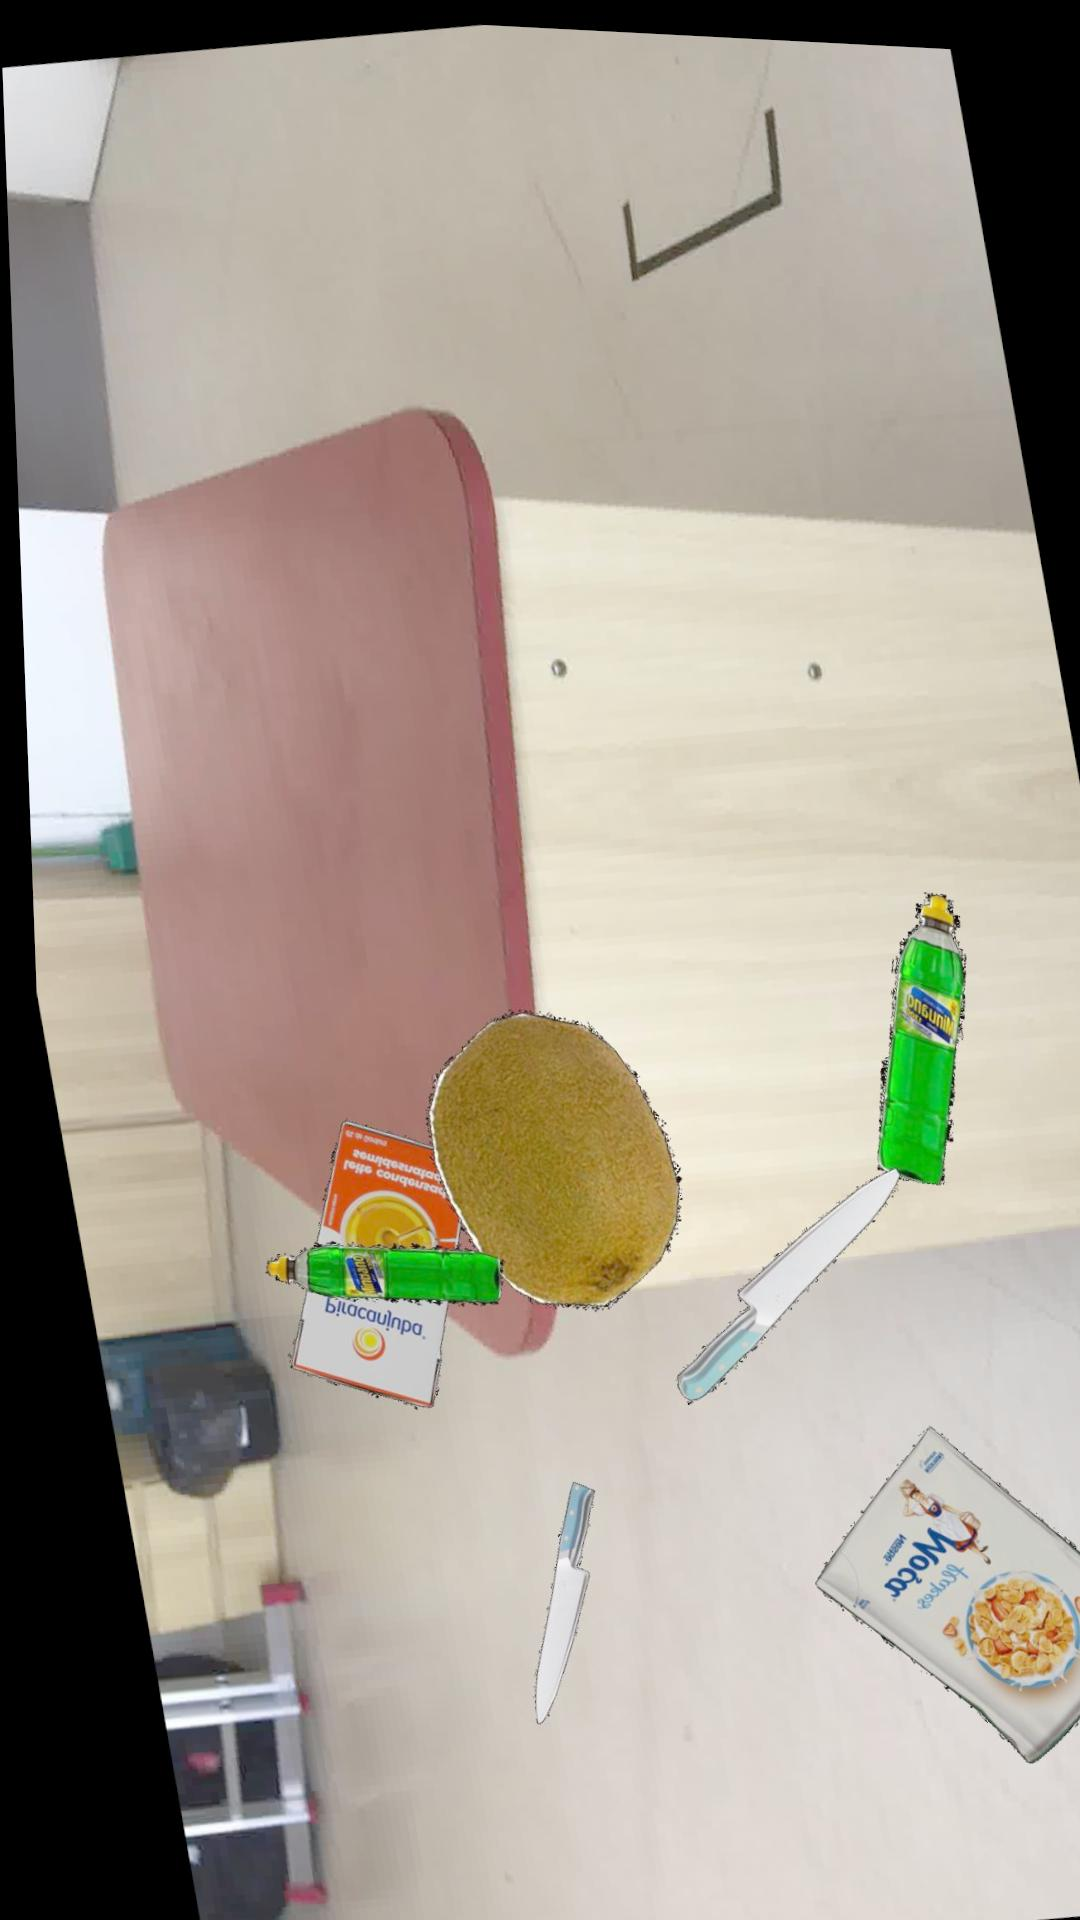cleaner: (869, 884, 960, 1175), (256, 1238, 496, 1302)
corn flakes: (803, 1418, 1080, 1753)
kiwi: (417, 1005, 674, 1303)
knife: (667, 1158, 893, 1398), (522, 1477, 584, 1720)
